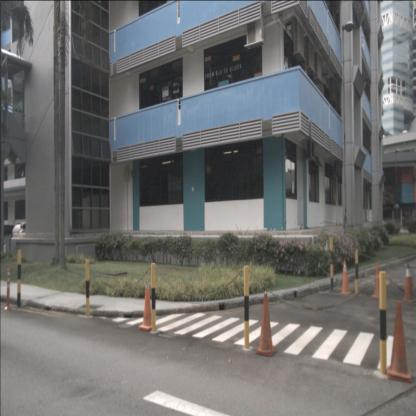movable_object-trafficcone: (387, 301, 412, 383), (255, 292, 277, 356), (139, 281, 156, 331), (372, 262, 384, 298), (403, 264, 414, 302), (340, 260, 350, 294), (4, 268, 12, 310)
vehicle-car: (12, 222, 37, 241), (0, 225, 19, 244)
